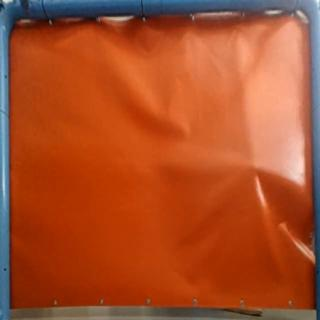Hit-hRxx: (243, 156, 262, 176)
